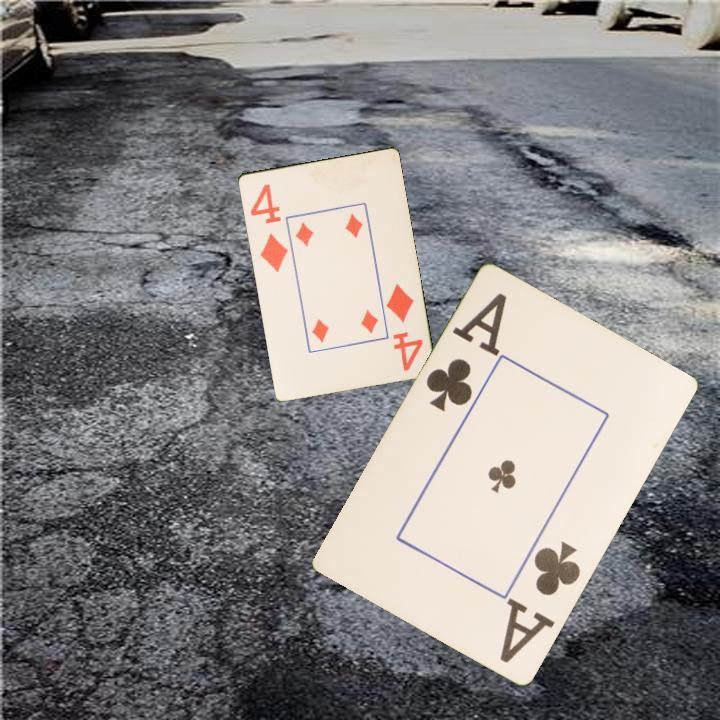4d: (246, 180, 291, 275), (382, 280, 425, 374)
Ac: (496, 538, 584, 667), (422, 289, 510, 416)
